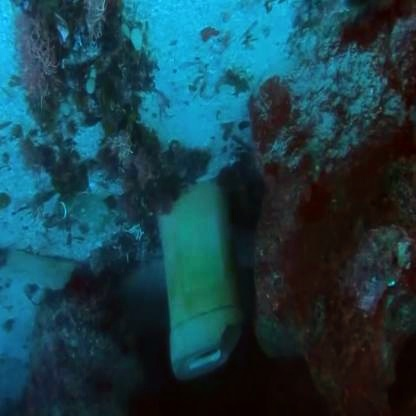plastic: (138, 150, 264, 402)
